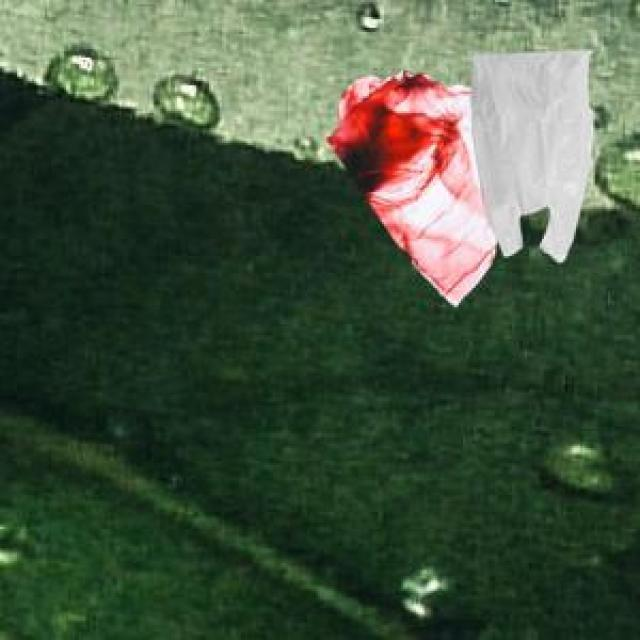waste: (328, 53, 592, 304)
